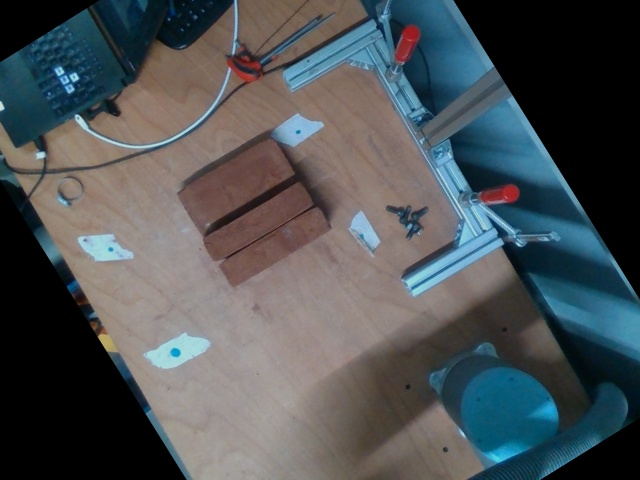brick: (175, 134, 296, 235)
brick-side: (219, 204, 331, 289), (203, 182, 314, 263)
